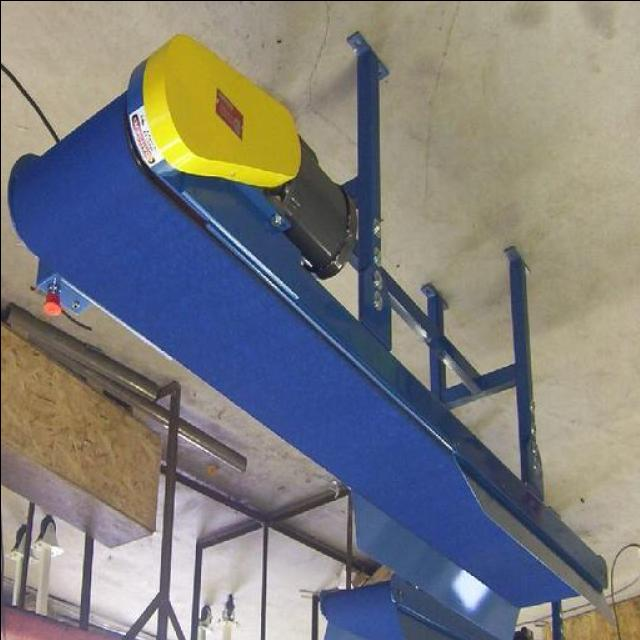conveyor: (11, 100, 590, 605)
